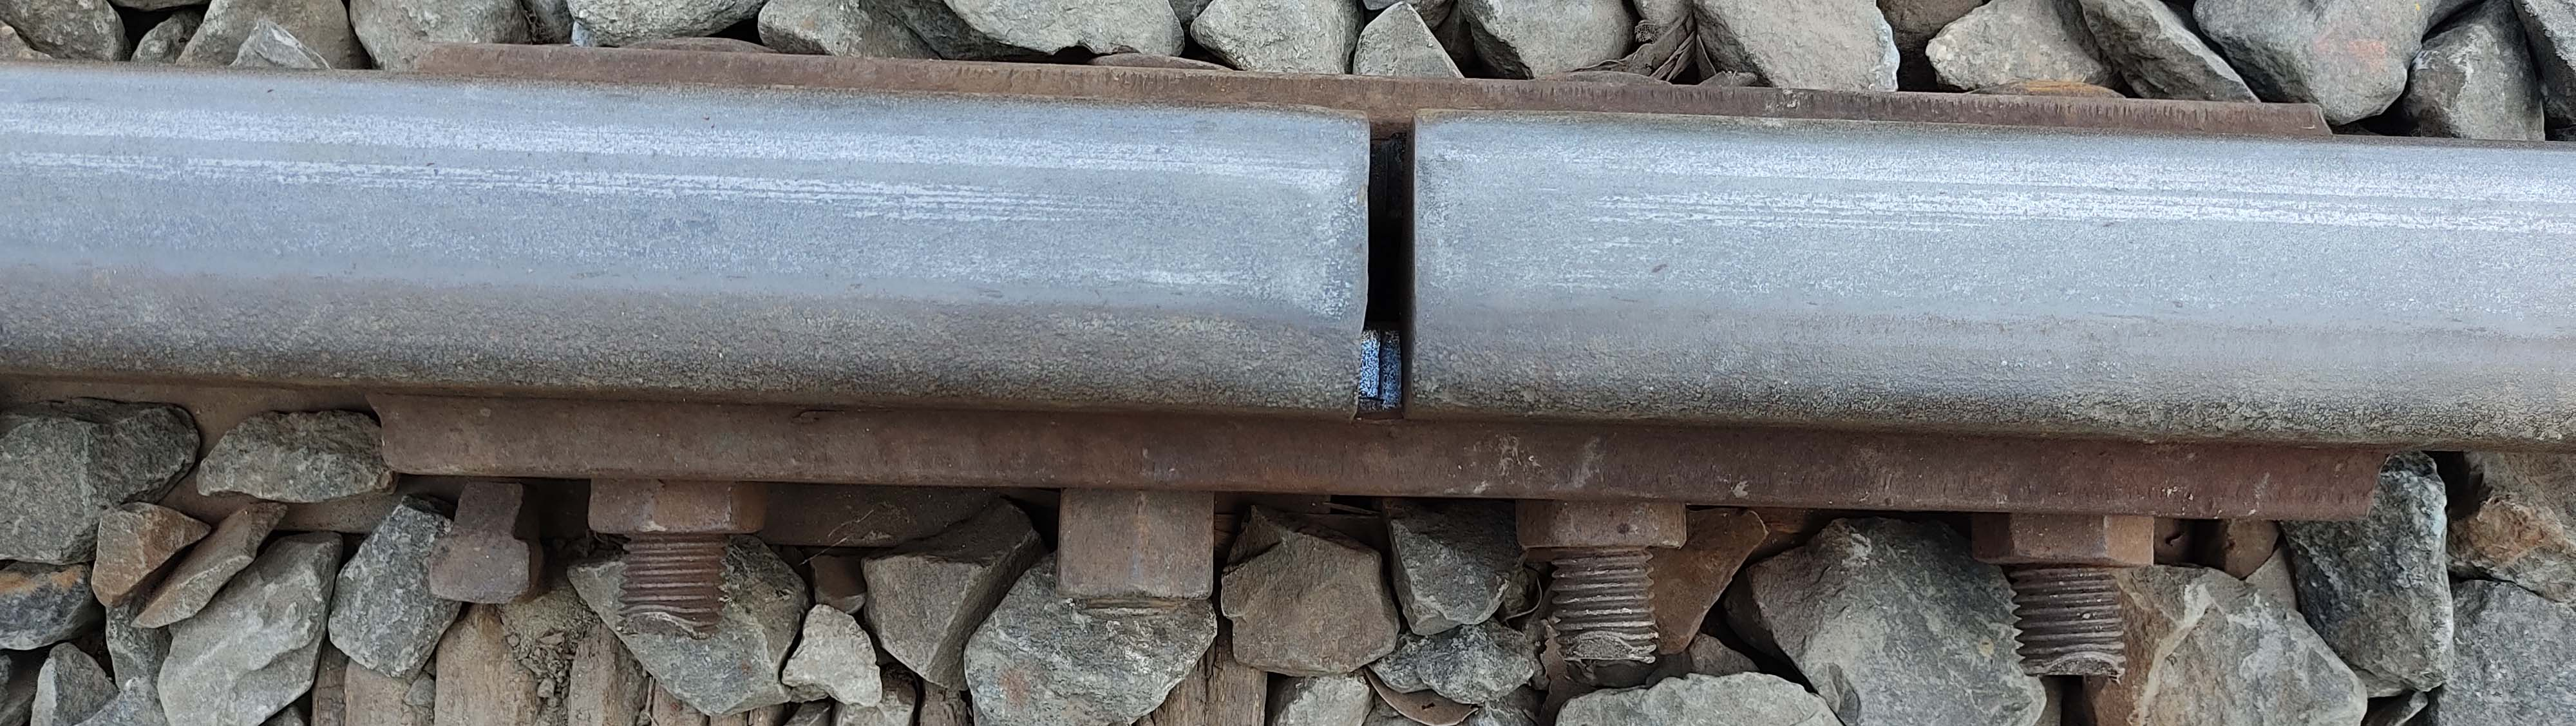error2: (1316, 72, 1454, 483)
